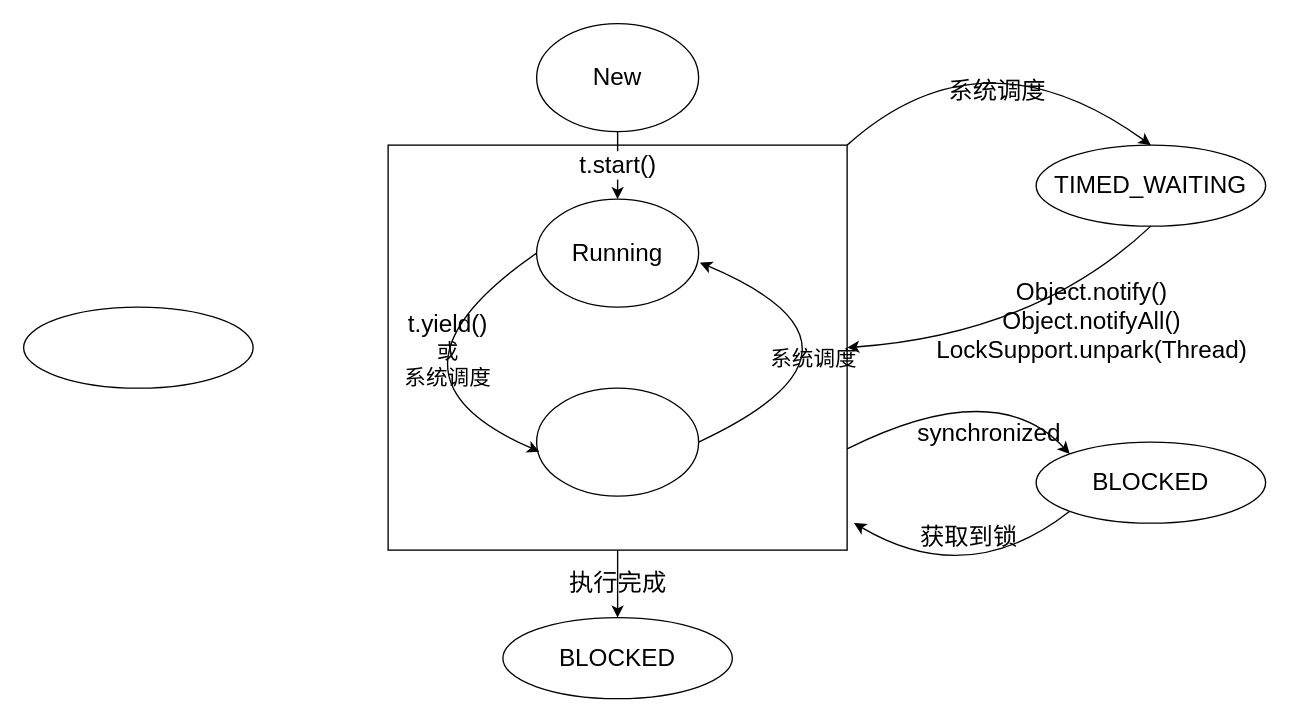
Some shapes in this 1289 by 722 pixel diagram are drawn without their labels. The shapes that lost their labels are listed below. From the top down, each one's centre as x and y in pixels, then its label:
At pixel 137 347: "WAITING".
At pixel 617 441: "Ready".
